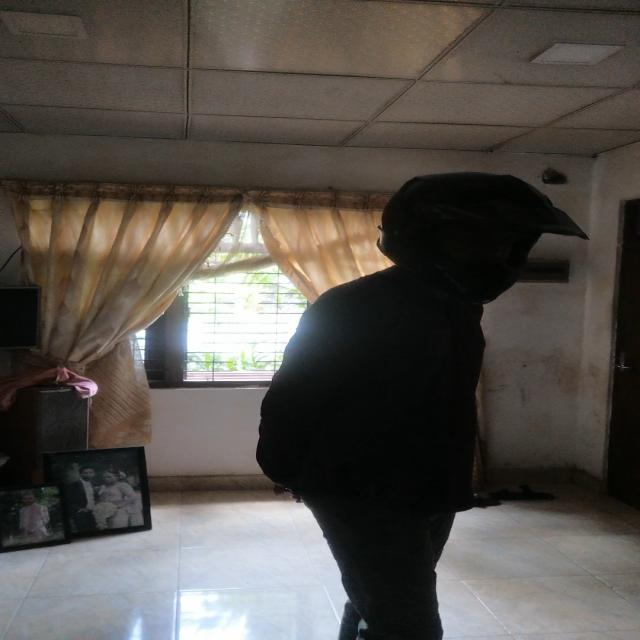Helmet_Wearer: (372, 166, 575, 316)
Person: (256, 165, 585, 640)
